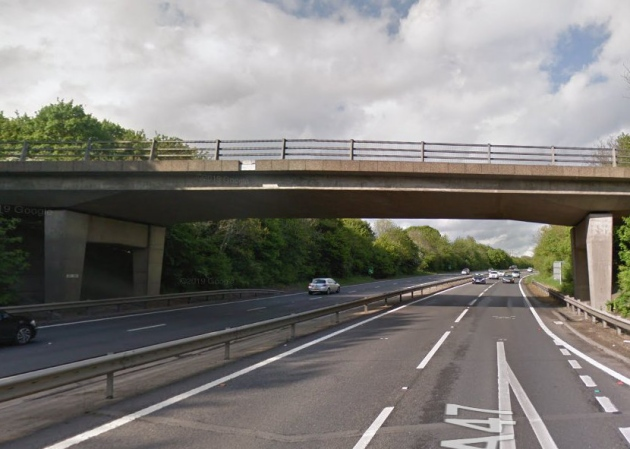bridge: (1, 136, 630, 230)
